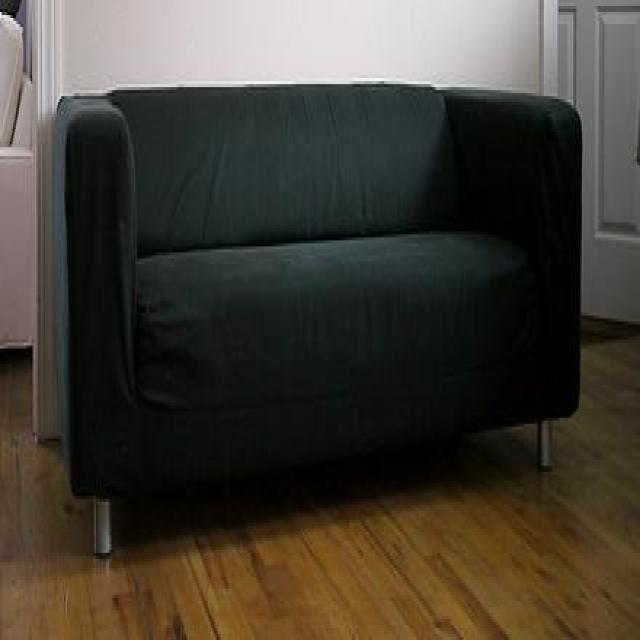sofa: (53, 81, 584, 558)
